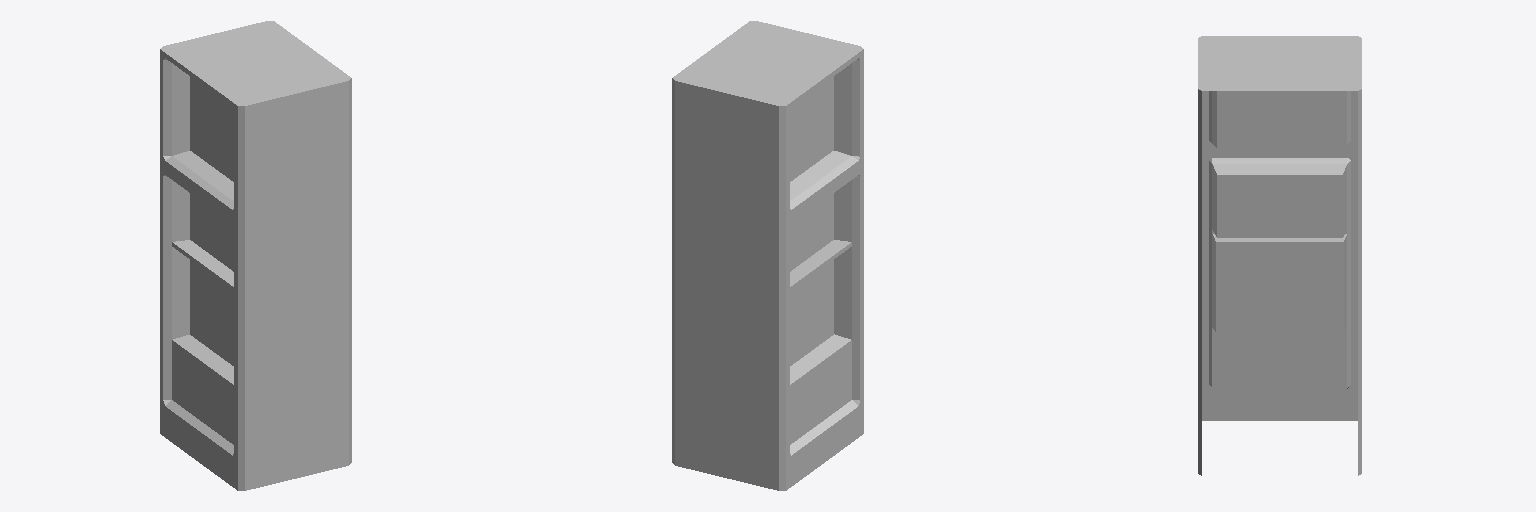
The model's file is FridgeCuerpo.obj.
3 views of the same model, side by side, from view 1: azimuth 30°, elevation 25°; view 2: azimuth 150°, elevation 25°; view 3: azimuth 270°, elevation 25° (orthographic).
Parts seen in each view (by area): view 1: B_Electric_0_007_3; view 2: B_Electric_0_007_3; view 3: B_Electric_0_007_3.
Boxes of the visible parts, x1,y1,x2,y2 form: B_Electric_0_007_3: [160, 21, 351, 490]; B_Electric_0_007_3: [672, 21, 863, 490]; B_Electric_0_007_3: [1198, 36, 1361, 475].
Size of the model in its own units: 1.3 by 4.19 by 1.62.